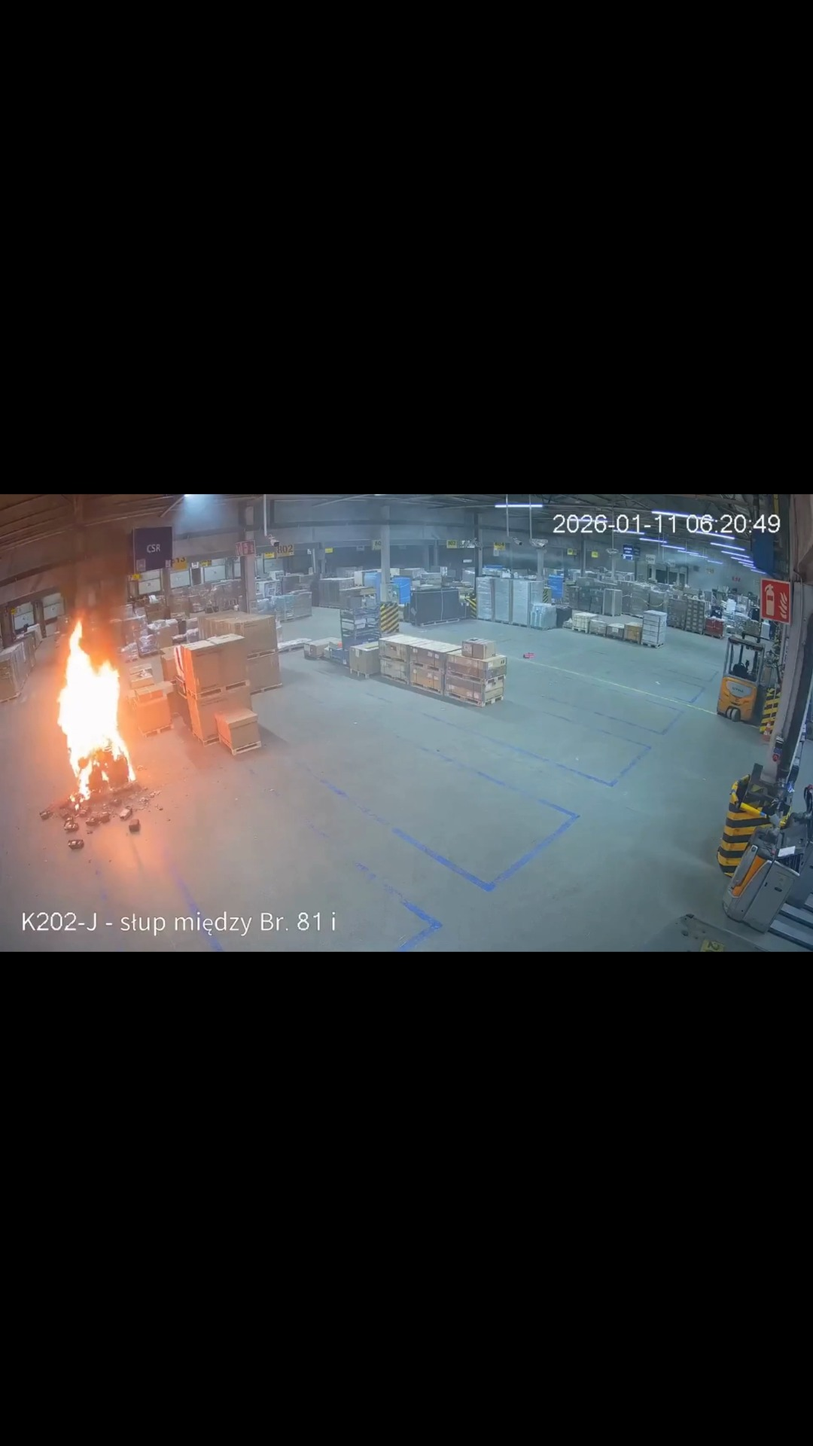fire: (55, 615, 139, 812)
smoke: (47, 496, 171, 633)
